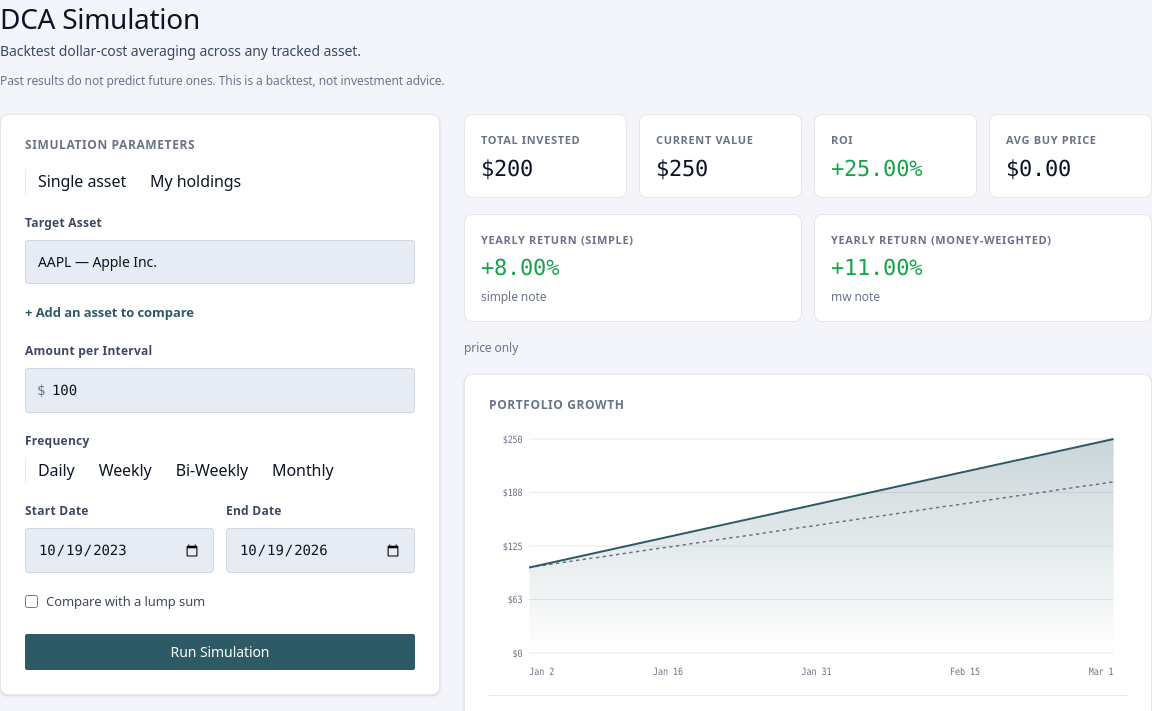
Test: DCASimulation: simulate my holdings › tells a user with no portfolios where to make one
Expected: the text "Total Invested" is shown, [481,132,580,147]
Click the radio button labelled "My holdings": click(196, 182) [138,169,253,195]
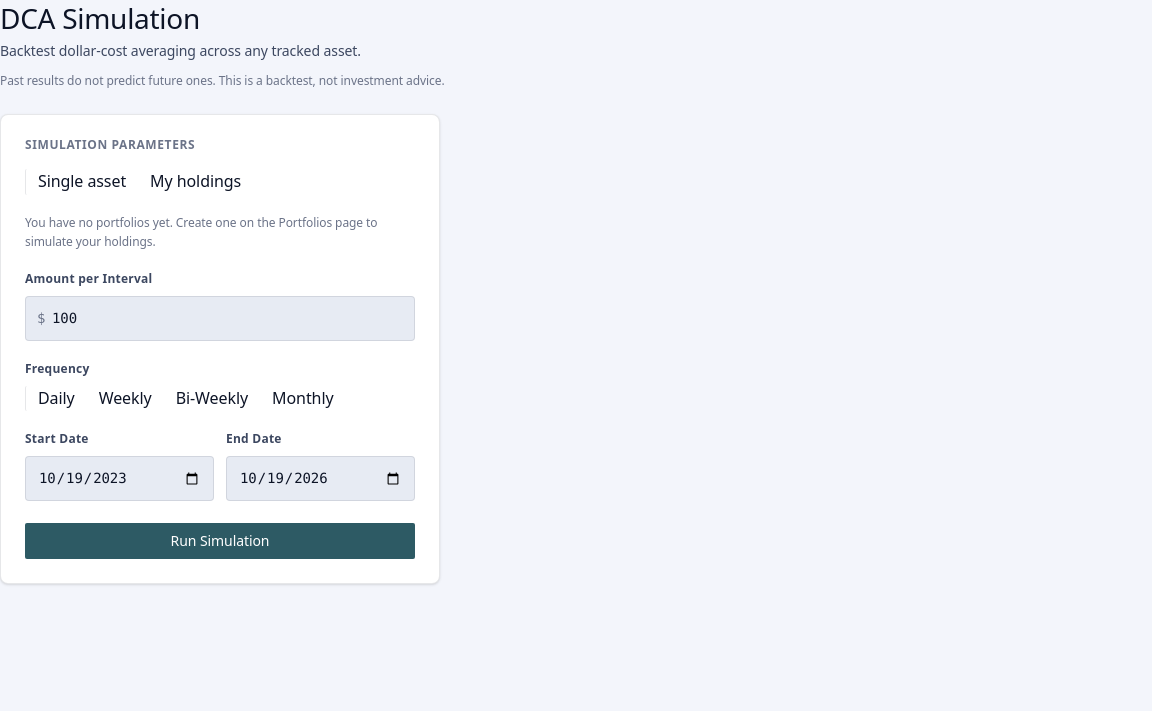
Result: the text "You have no portfolios yet" is shown at [25,214,378,250]
